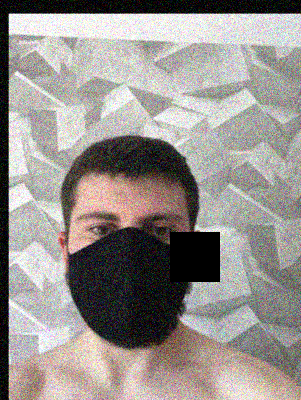with_mask: (67, 198, 191, 349)
